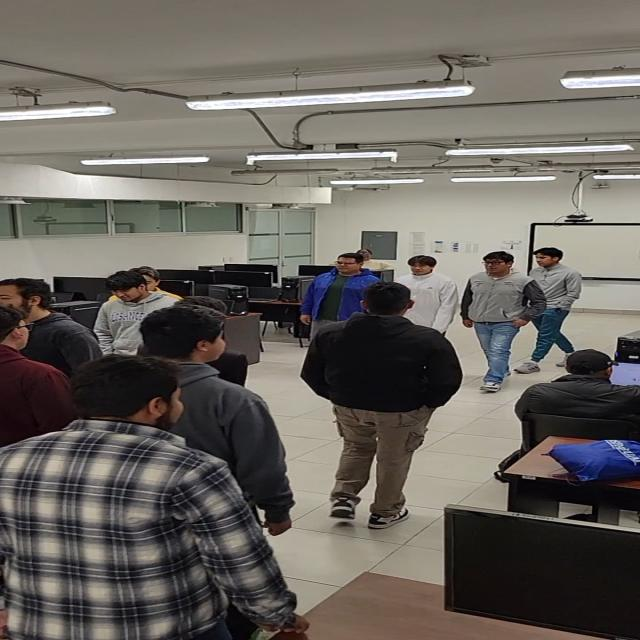Persona: (5, 359, 301, 640), (307, 279, 451, 532), (147, 304, 299, 508), (463, 247, 531, 398), (523, 245, 586, 375), (300, 250, 367, 322), (408, 255, 460, 338)
